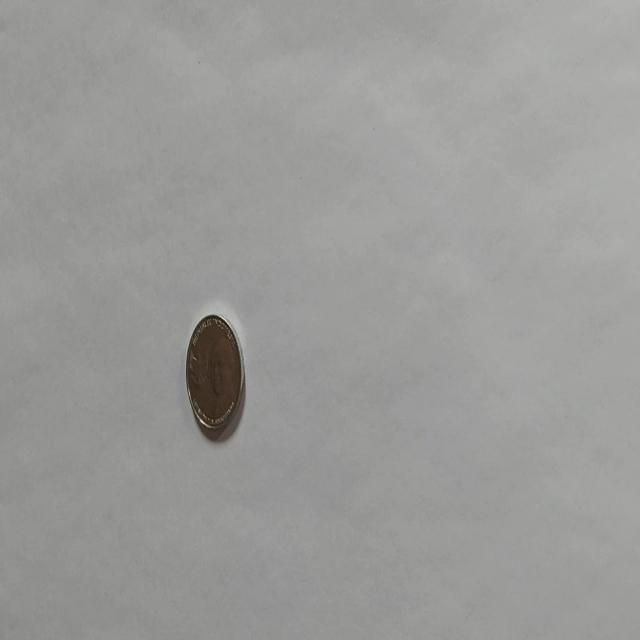lima ratus rupiah: (184, 312, 245, 437)
